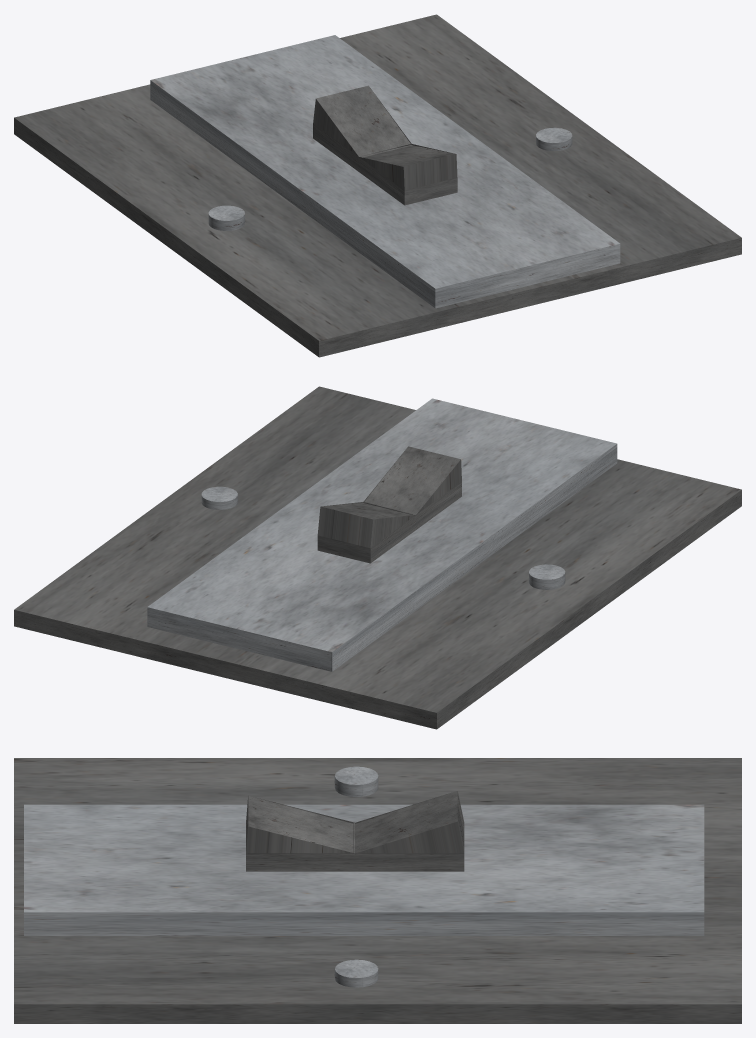
The model's file is Switch-Painting.fbx.
3 views of the same model, one above another, from view 1: azimuth 30°, elevation 25°; view 2: azimuth 150°, elevation 25°; view 3: azimuth 270°, elevation 25° (orthographic). The views are drawn at different scales.
Visible parts, largest first — view 1: base, panel, switch, screws; view 2: base, panel, switch, screws; view 3: base, panel, switch, screws.
Part boxes in pixels (<box>): base: <box>14,14,741,357</box>; panel: <box>150,35,620,308</box>; switch: <box>313,85,457,205</box>; screws: <box>208,127,572,230</box>; base: <box>14,386,741,729</box>; panel: <box>147,398,617,671</box>; switch: <box>317,446,461,563</box>; screws: <box>201,486,565,589</box>; base: <box>14,758,741,1023</box>; panel: <box>24,804,704,935</box>; switch: <box>246,791,464,871</box>; screws: <box>334,766,378,987</box>.
Bounding box in the file's own units: 8 × 1.47 × 10.
4 materials, 4 textured.
